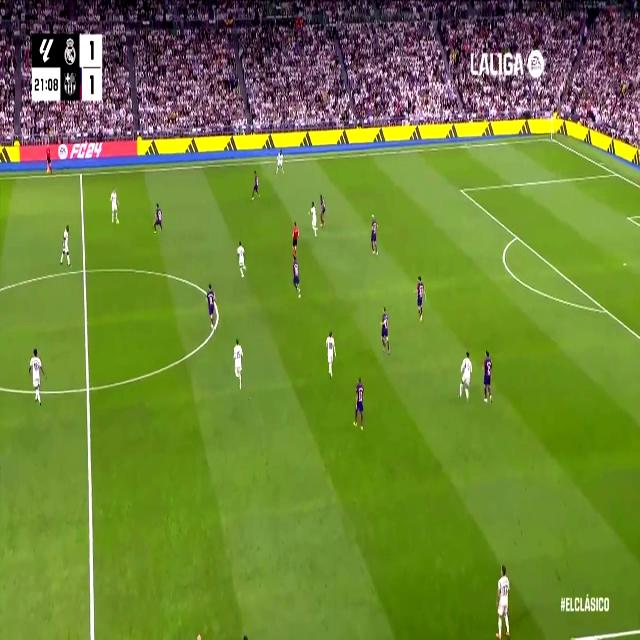bigarea_top_inner: (457, 182, 465, 197)
bigarea_top_outter: (611, 166, 619, 179)
bottom_arc_area_intersection: (601, 301, 611, 319)
halfcircle_bottom: (82, 372, 95, 402)
halfcircle_top: (78, 258, 90, 282)
midline_top_intersection: (78, 168, 84, 180)
smallarea_top_inner: (624, 210, 632, 224)
top_arc_area_intersection: (513, 228, 520, 244)
